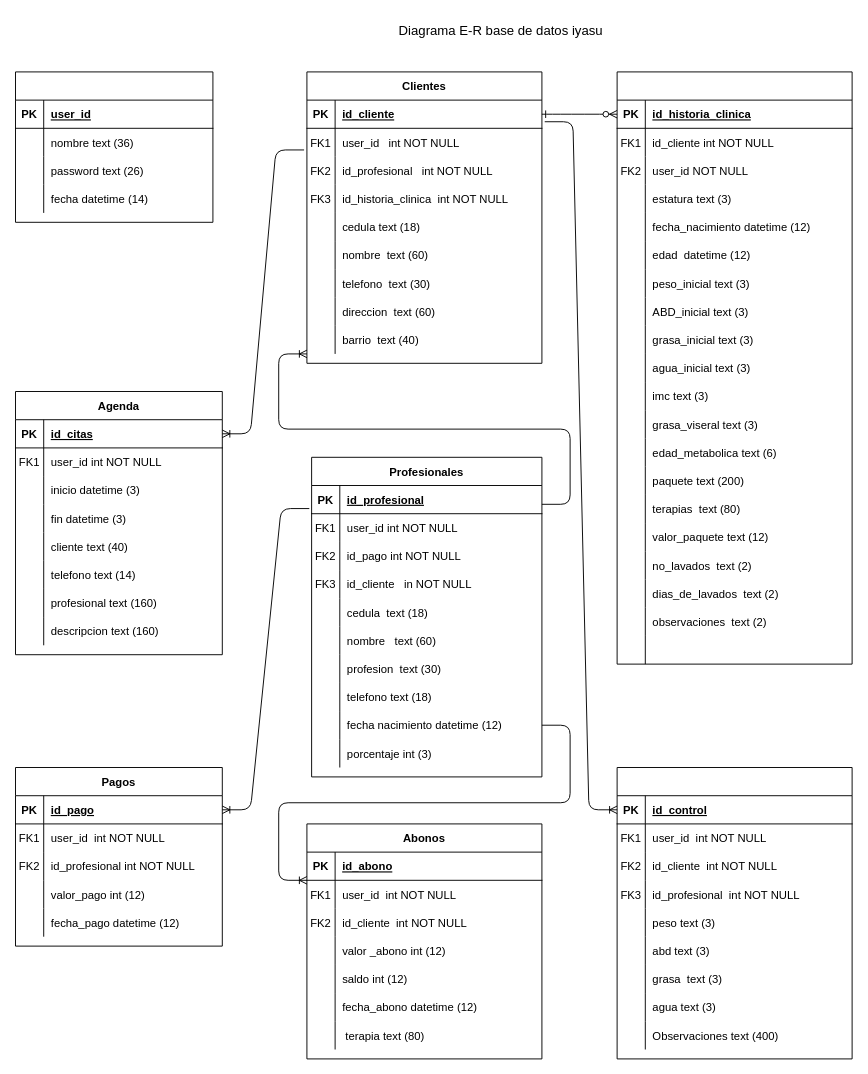
Image size: 868x1074. Some labels were removed from this diagram. Each missing label, with the box of its shape:
Controles: (616, 767, 852, 1059)
Historias_clinicas: (616, 71, 852, 664)
Usuario: (15, 71, 213, 222)
